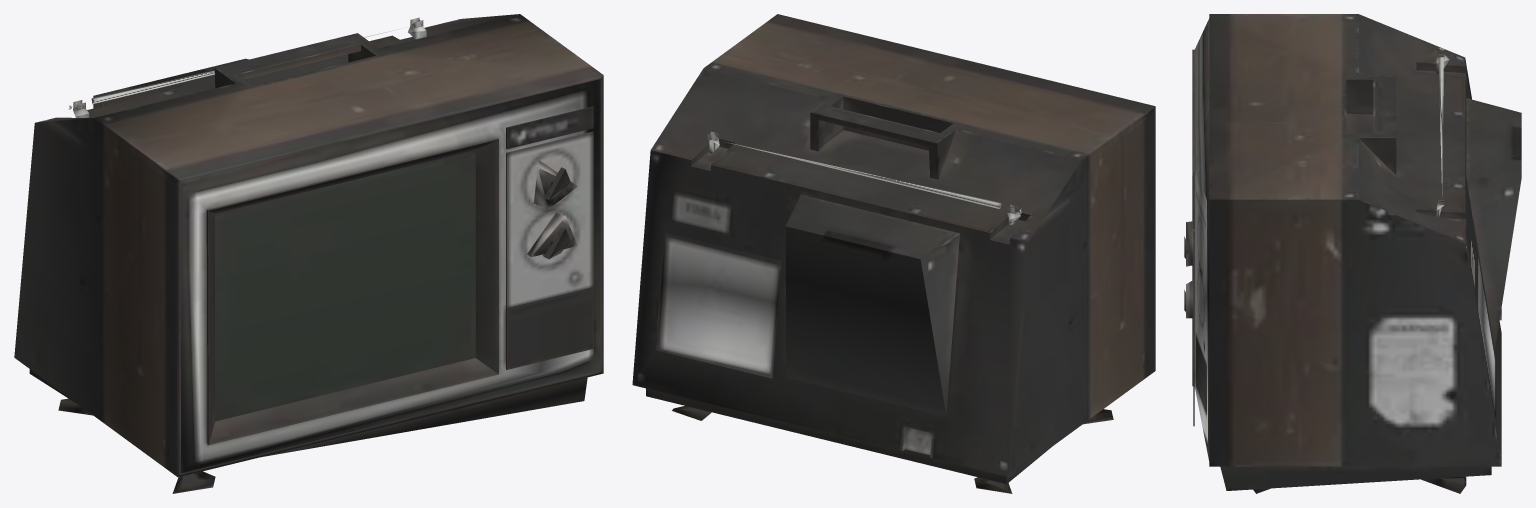
The model's file is Television_01_lod1.glb.
3 renders of one model, left to right at view 1: azimuth 30°, elevation 25°; view 2: azimuth 150°, elevation 25°; view 3: azimuth 270°, elevation 25°, orthographic. The views are drawn at different scales.
Visible parts, largest first — view 1: Television_01; view 2: Television_01; view 3: Television_01.
Boxes of the visible parts, x1,y1,x2,y2 form: Television_01: (14, 14, 603, 493); Television_01: (632, 14, 1155, 493); Television_01: (1184, 14, 1521, 493).
Size of the model in its own units: 0.6 by 0.4569 by 0.4602.
1 material, 1 textured.
